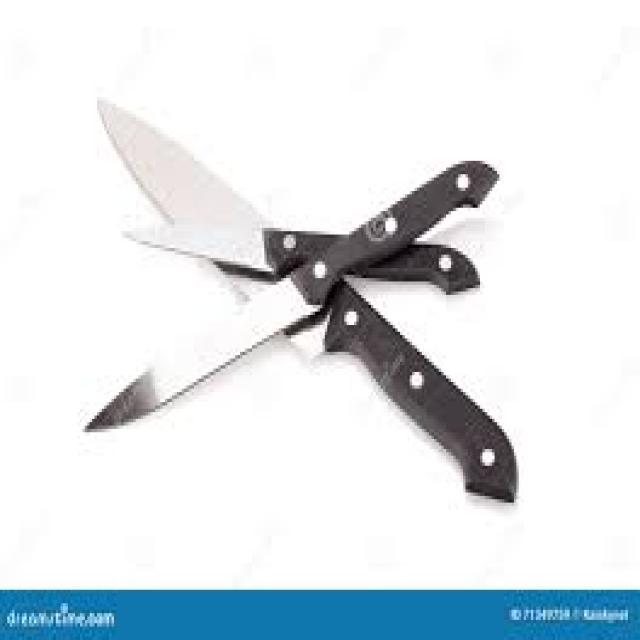Knife: (85, 94, 516, 502)
